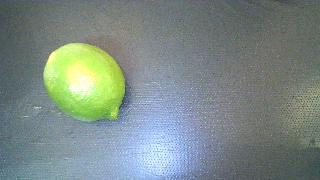EXPORTACION: (43, 43, 125, 122)
